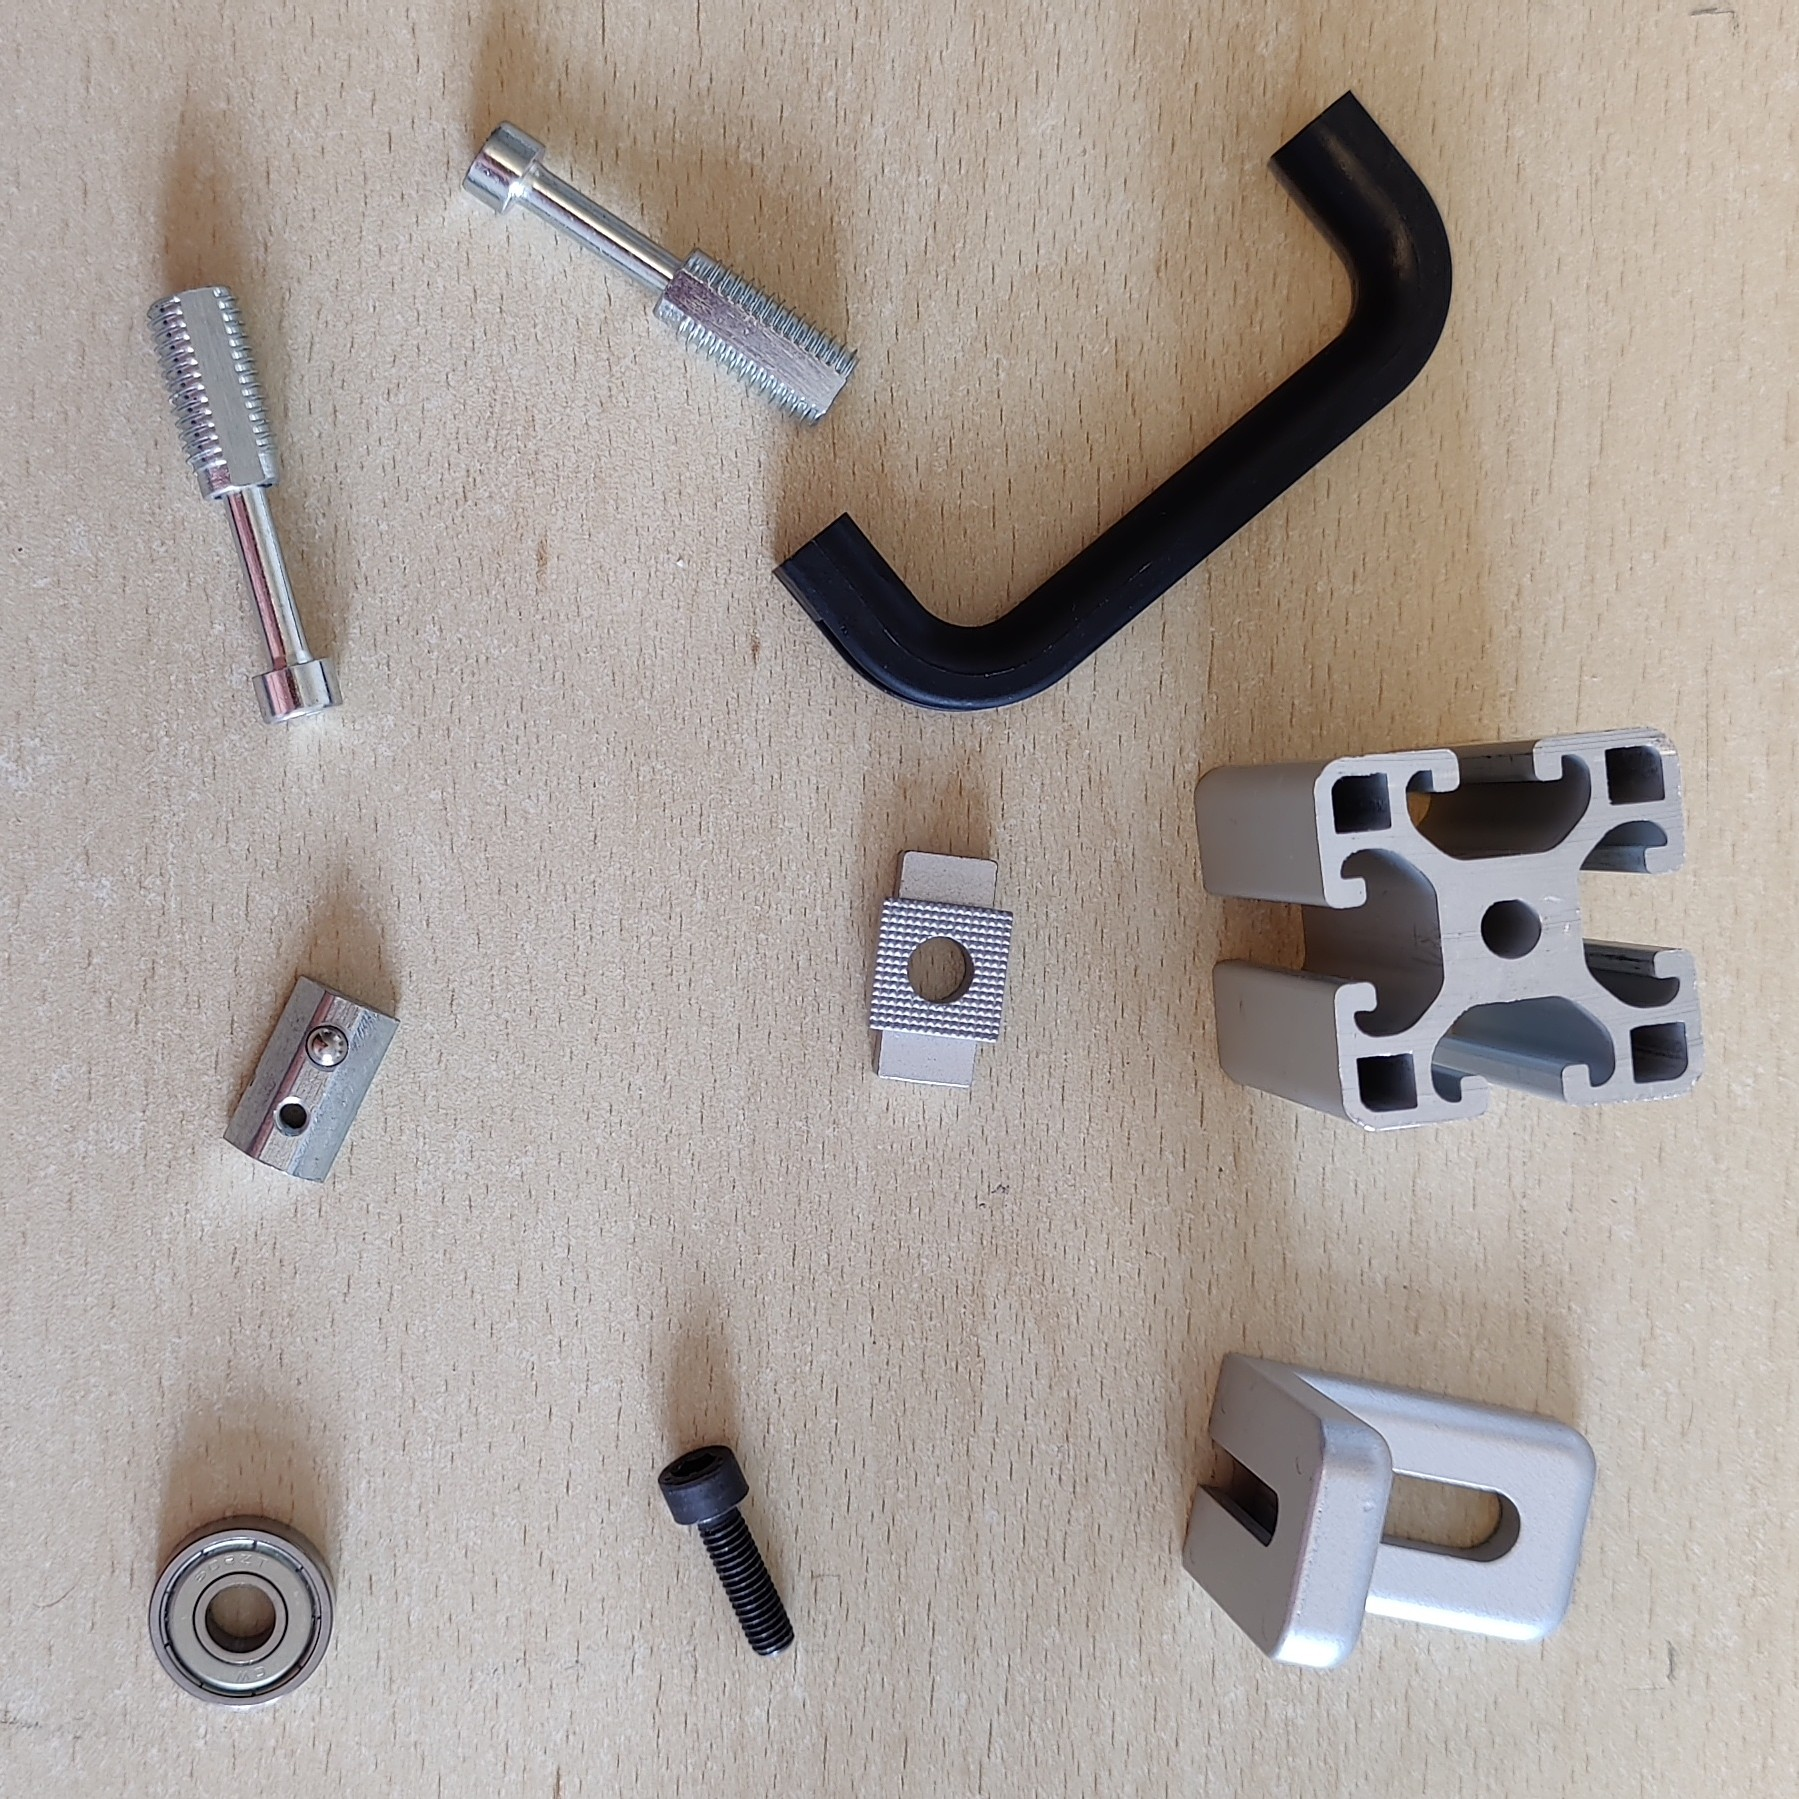Aluminium Extension: (1191, 723, 1708, 1135)
Ball Bearing: (148, 1516, 338, 1713)
Multiwinkel: (1178, 1346, 1600, 1675)
Pull Handle: (768, 87, 1455, 713)
Shoulder Socket Head Cap Screw: (461, 119, 863, 432), (143, 283, 348, 730)
Socket Head Cap Screw: (656, 1442, 799, 1661)
T Nut Square: (865, 845, 1016, 1091)
T Spring Nut: (222, 969, 400, 1188)
